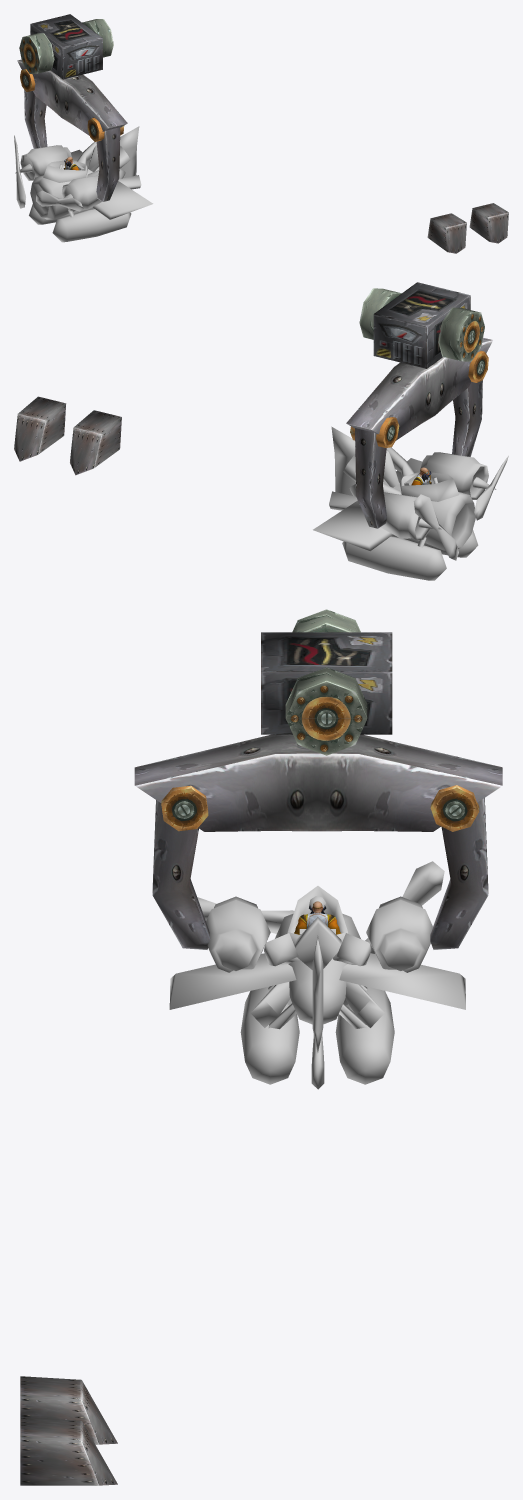
File: garagemachine.obj
3 renders of one model, top to bottom at view 1: azimuth 30°, elevation 25°; view 2: azimuth 150°, elevation 25°; view 3: azimuth 270°, elevation 25°, orthographic. The views are drawn at different scales.
Parts seen in each view (by area): view 1: Geoset0, Geoset5, Geoset6, Geoset7, Geoset4; view 2: Geoset0, Geoset5, Geoset6, Geoset7, Geoset4; view 3: Geoset5, Geoset0, Geoset4, Geoset6, Geoset7.
Part boxes in pixels (bbox=[...]): Geoset0: bbox=[14, 126, 153, 242]; Geoset5: bbox=[17, 59, 127, 201]; Geoset6: bbox=[30, 14, 102, 79]; Geoset7: bbox=[427, 203, 508, 253]; Geoset4: bbox=[19, 19, 124, 141]; Geoset0: bbox=[313, 426, 508, 580]; Geoset5: bbox=[346, 337, 492, 528]; Geoset6: bbox=[373, 282, 470, 368]; Geoset7: bbox=[14, 396, 121, 475]; Geoset4: bbox=[350, 288, 488, 447]; Geoset5: bbox=[134, 734, 502, 949]; Geoset0: bbox=[169, 861, 465, 1089]; Geoset4: bbox=[161, 609, 479, 831]; Geoset6: bbox=[261, 632, 392, 734]; Geoset7: bbox=[20, 1376, 117, 1485].
Size of the model in its own units: 18.46 by 10.78 by 9.58.
